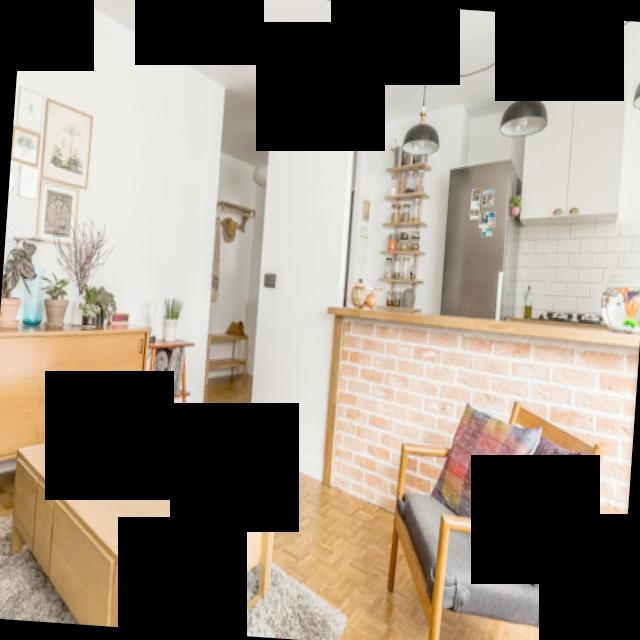vintage chair: (366, 387, 615, 640)
vintage desk: (0, 409, 298, 638)
